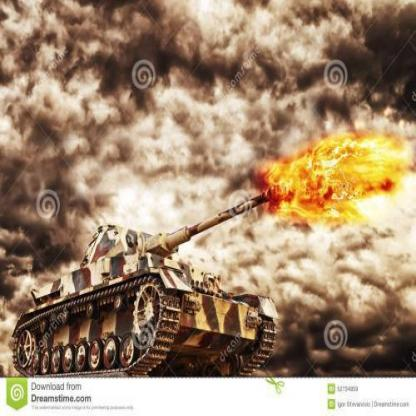fire: (268, 136, 406, 232)
smoke: (0, 0, 245, 219), (252, 7, 400, 129), (238, 232, 402, 309), (292, 314, 392, 362)
